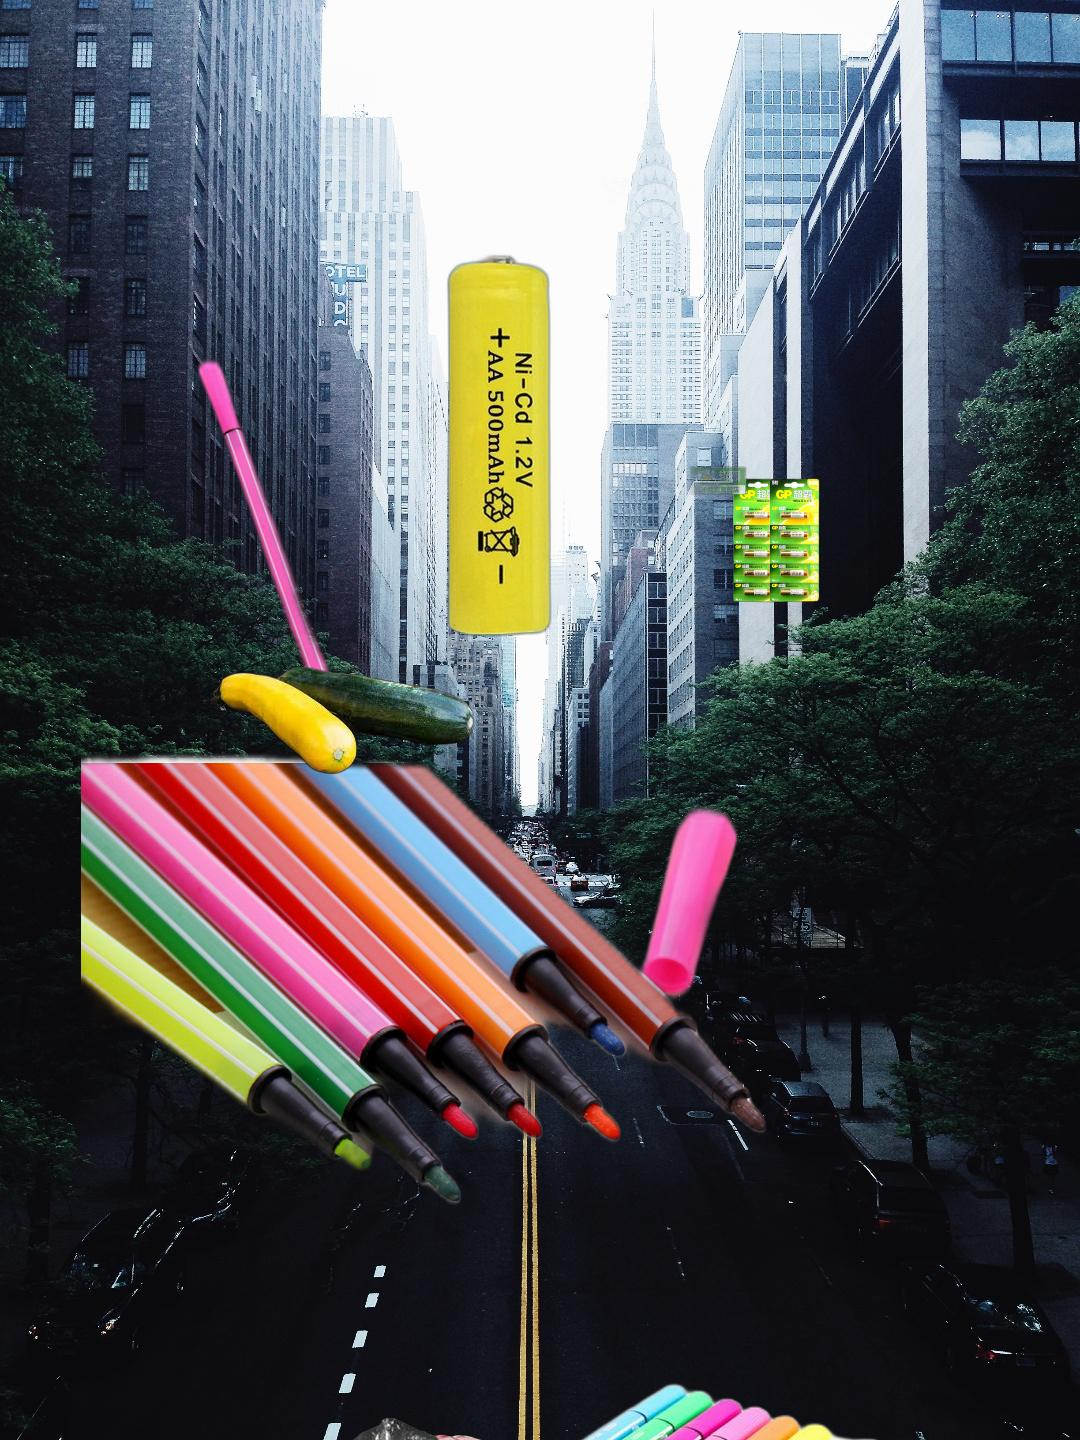battery: (443, 172, 894, 641), (689, 466, 822, 605)
biological: (210, 664, 477, 777)
penholder: (81, 344, 773, 1220), (462, 1379, 1074, 1440)
plastic-bag: (321, 1416, 507, 1440)
